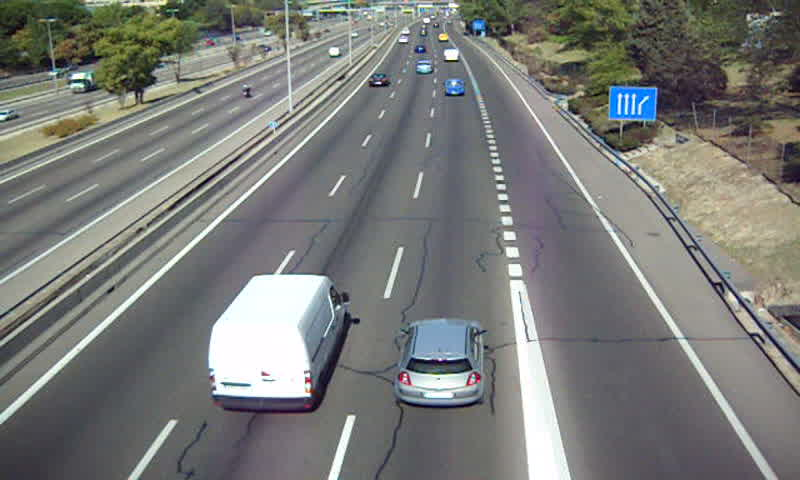car: (397, 320, 484, 408), (443, 78, 467, 98), (366, 73, 391, 88), (414, 60, 433, 75)
van: (209, 274, 347, 412), (442, 48, 460, 63)
